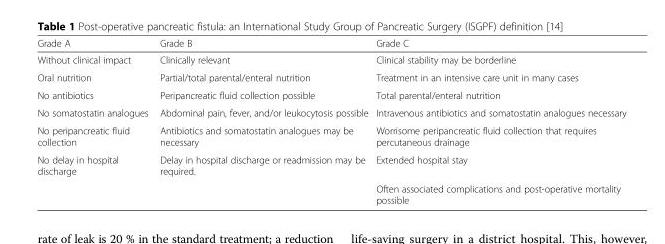table: (36, 37, 625, 205)
table column: (371, 37, 625, 205), (153, 37, 371, 205), (36, 37, 153, 205)
table column header: (36, 37, 625, 51)
table row: (36, 121, 625, 150), (36, 150, 625, 179), (36, 179, 625, 205), (36, 85, 625, 103), (36, 103, 625, 121), (36, 51, 625, 68), (36, 68, 625, 85), (36, 37, 625, 51)
table spanning cell: (36, 150, 153, 205)
